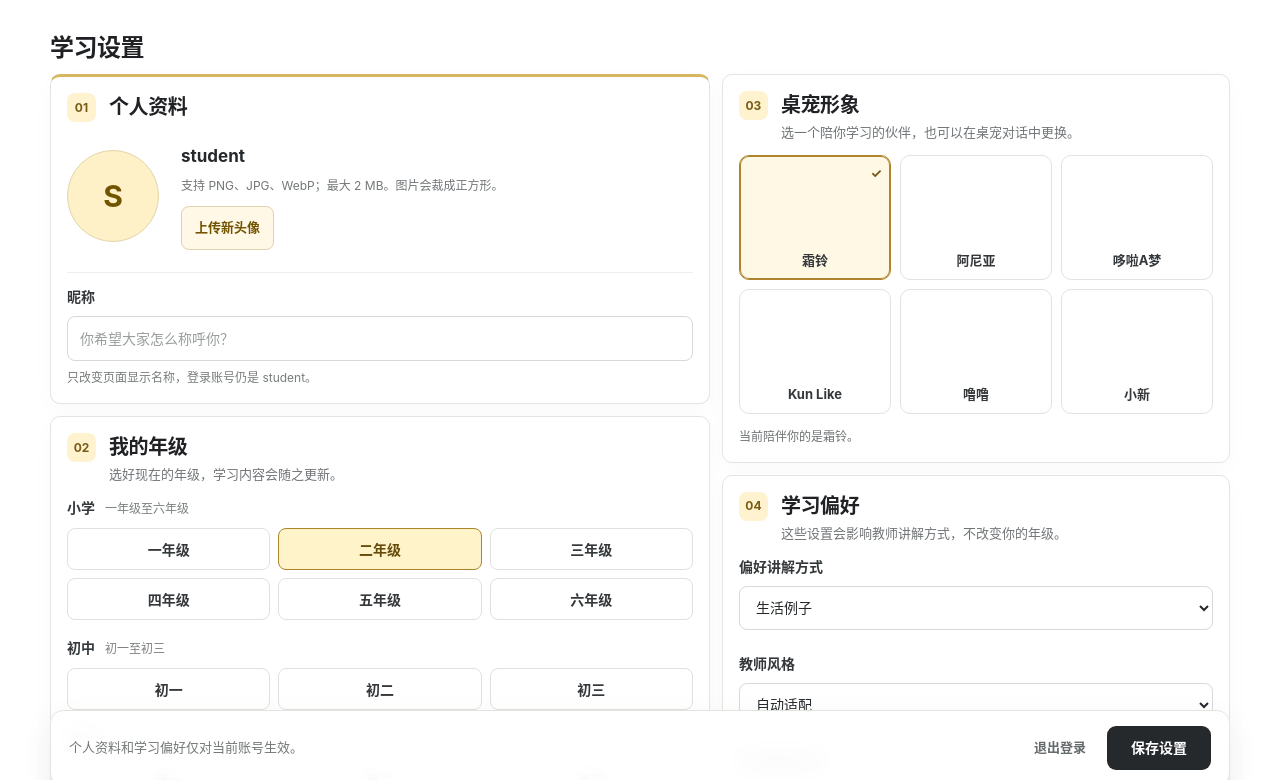
Test: restores six pet images and saves the selected companion on this account
Click the radio button labelled "阿尼亚" at (976, 217), box [900,154,1052,280]
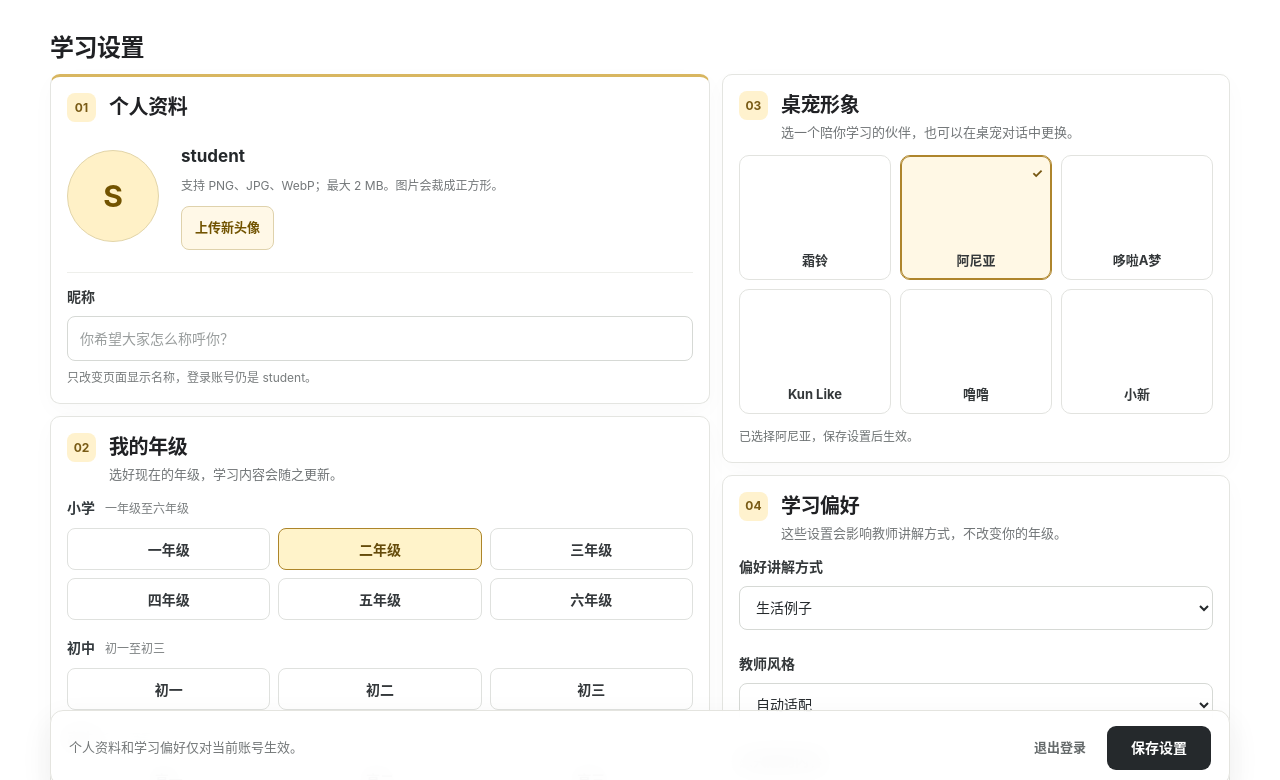
Result: the text "已选择阿尼亚，保存设置后生效。" is shown at [739,428,919,444]
Click the button "保存设置" at (1159, 748), box [1107,726,1211,770]
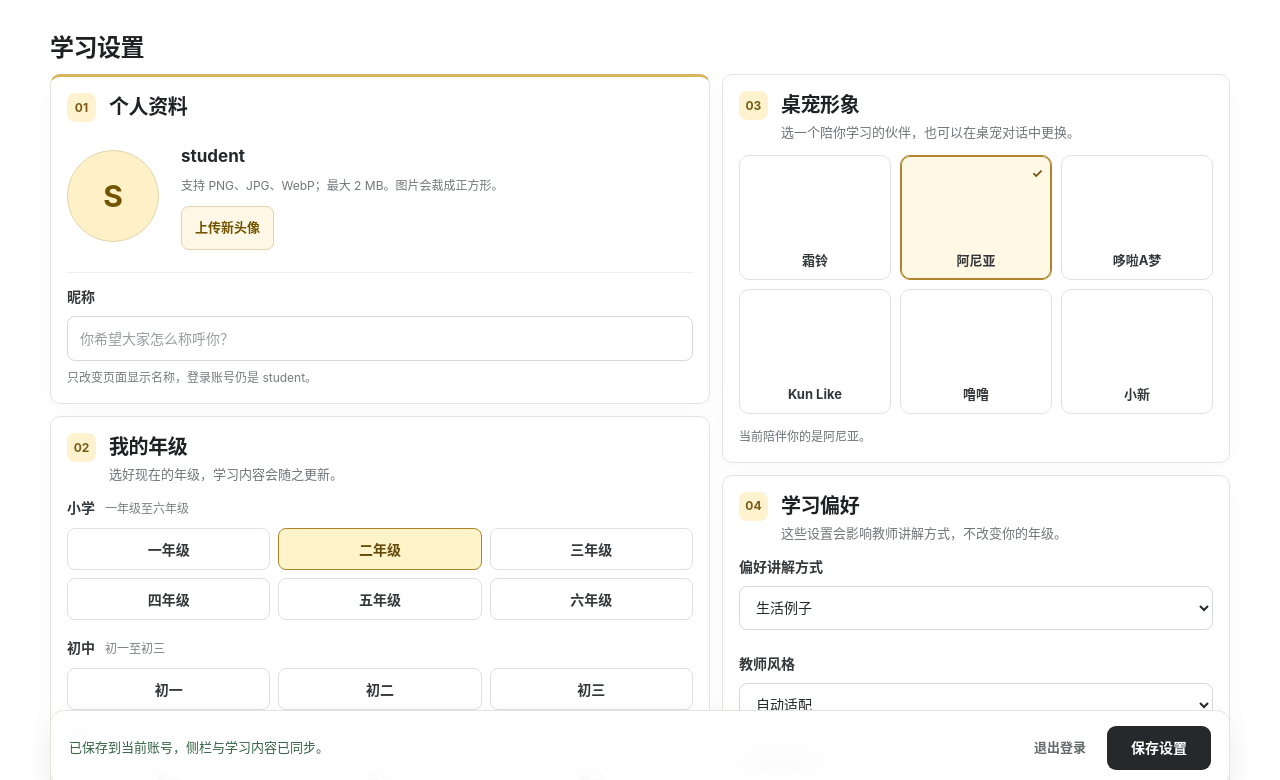
Result: the text "当前陪伴你的是阿尼亚。" is shown at [739,428,871,444]
